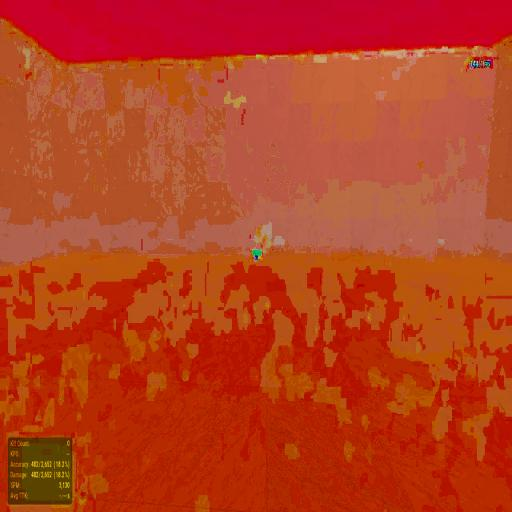Crosshair: (255, 254, 257, 258)
Target: (256, 254, 258, 259)
